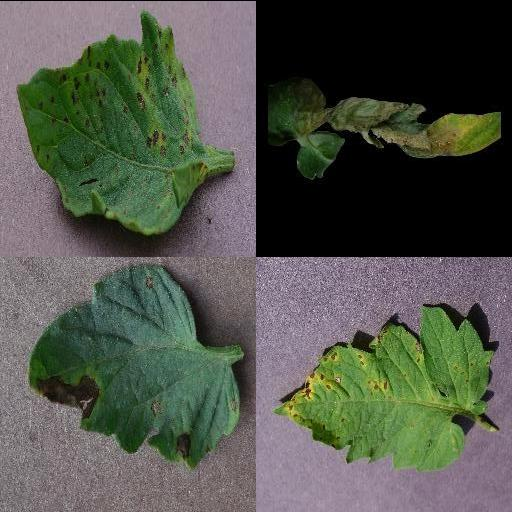Early Blight: (26, 260, 242, 466)
Late Blight: (265, 75, 503, 181)
Septoria: (15, 9, 209, 233), (273, 303, 495, 470)
